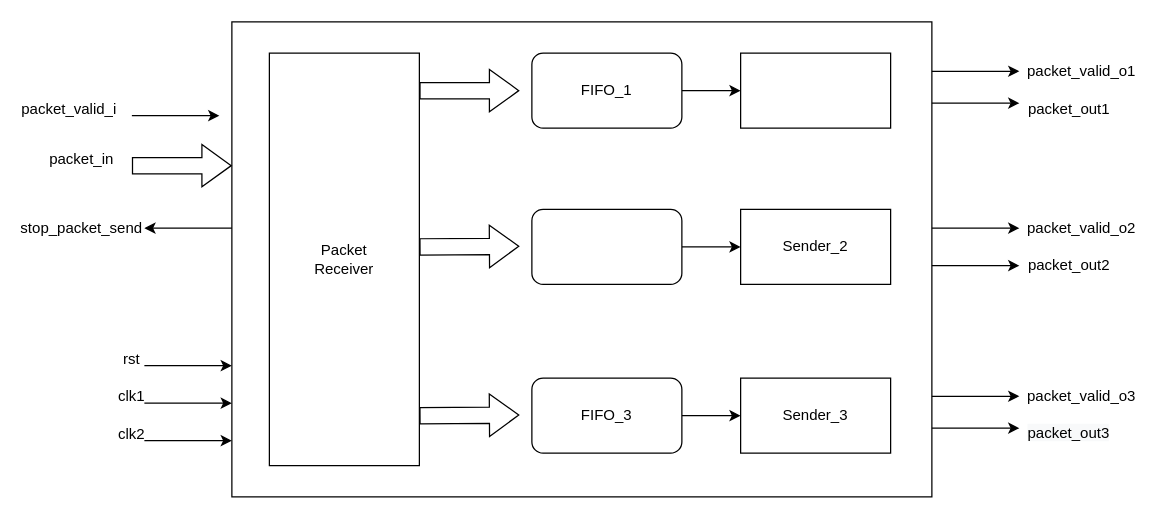
The diagram is 1166 pixels wide and 519 high, and some of its shapes have lost their labels. The centre of each missing label's shape, as x and y in pixels:
"FIFO_2" belongs at (606,246).
"Sender_1" belongs at (815,90).
